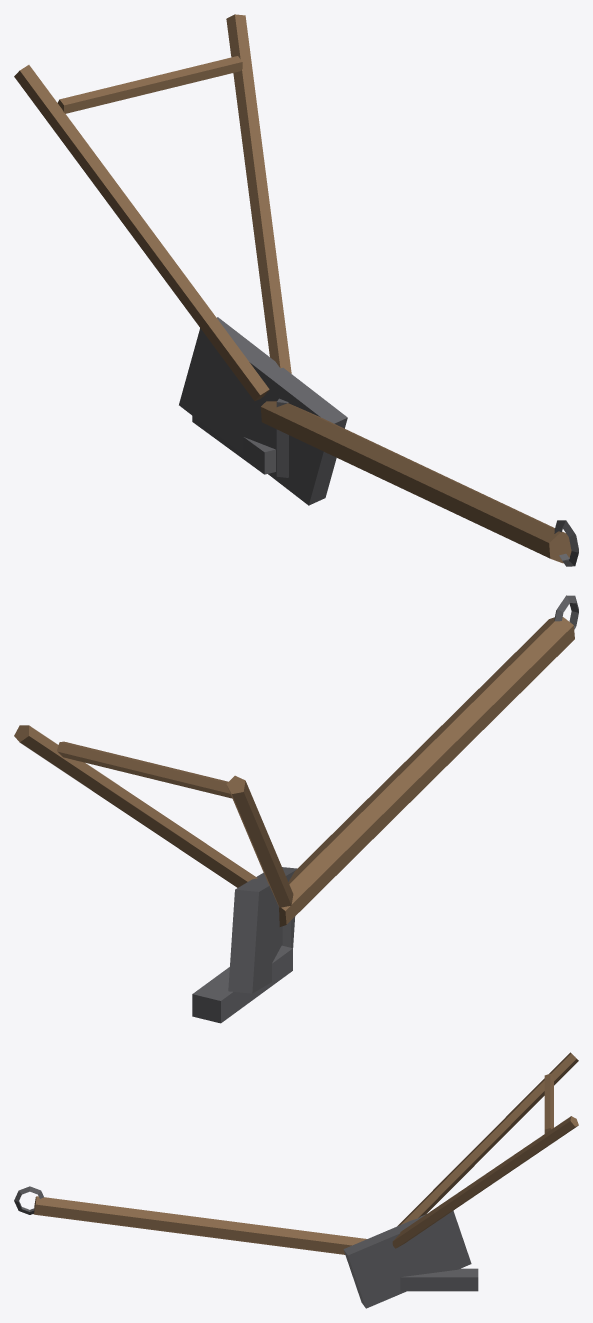
The model's file is SM_Plough.glb.
3 renders of one model, top to bottom at view 1: azimuth 30°, elevation 25°; view 2: azimuth 150°, elevation 25°; view 3: azimuth 270°, elevation 25°, orthographic. The views are drawn at different scales.
Visible parts, largest first — view 1: SM_Plough; view 2: SM_Plough; view 3: SM_Plough.
Boxes of the visible parts, left/top/right/bottom form: SM_Plough: left=14, top=14, right=578, bottom=566; SM_Plough: left=14, top=595, right=578, bottom=1023; SM_Plough: left=14, top=1052, right=578, bottom=1308.
Size of the model in its own units: 0.6436 by 0.9242 by 2.2.
